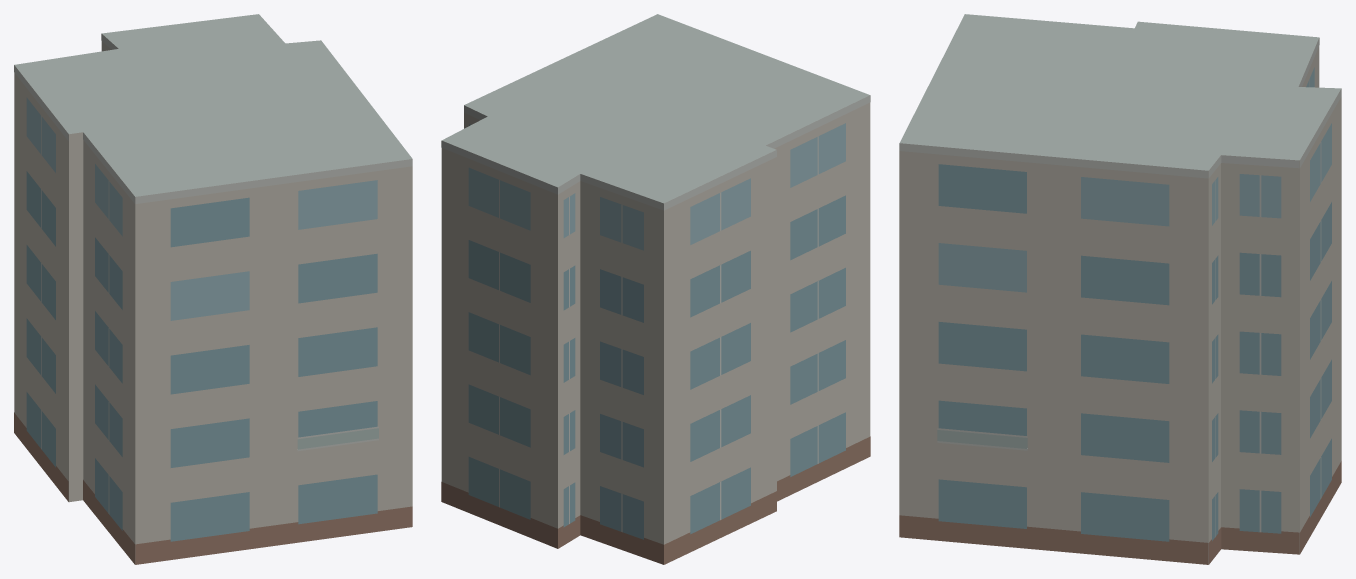
Rendered from survey-upis-32665002.glb.
3 views of the same model, side by side, from view 1: azimuth 30°, elevation 25°; view 2: azimuth 150°, elevation 25°; view 3: azimuth 270°, elevation 25° (orthographic). The views are drawn at different scales.
Visible parts, largest first — view 1: survey-upis-32665002.tmp; view 2: survey-upis-32665002.tmp; view 3: survey-upis-32665002.tmp.
Part boxes in pixels (left/top/right/bottom): survey-upis-32665002.tmp: left=14, top=14, right=412, bottom=564; survey-upis-32665002.tmp: left=441, top=14, right=870, bottom=564; survey-upis-32665002.tmp: left=899, top=14, right=1341, bottom=564.
Bounding box in the file's own units: 10.5 × 12.3 × 12.52.
